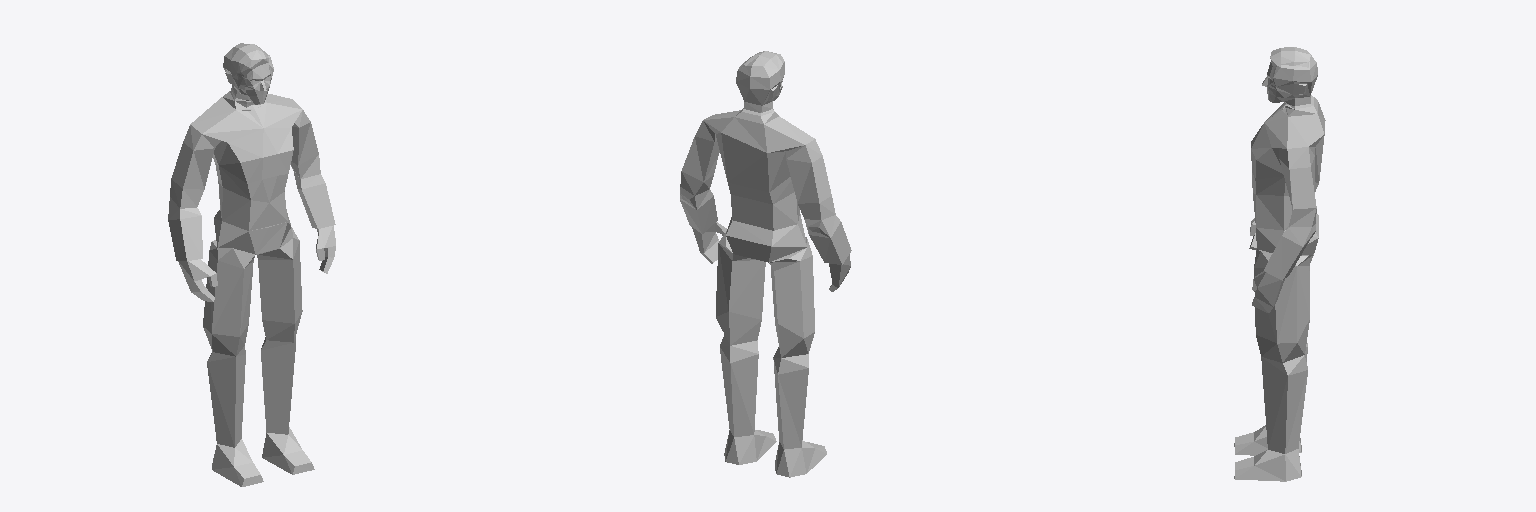
File: Manuel11.obj
3 views of the same model, side by side, from view 1: azimuth 30°, elevation 25°; view 2: azimuth 150°, elevation 25°; view 3: azimuth 270°, elevation 25° (orthographic).
Parts seen in each view (by area): view 1: leon; view 2: leon; view 3: leon.
Part boxes in pixels (x1,y1,x2,y2): leon: (168,43,335,486); leon: (680,51,851,477); leon: (1234,47,1325,481).
Bounding box in the file's own units: 4.77 × 12.18 × 2.44.